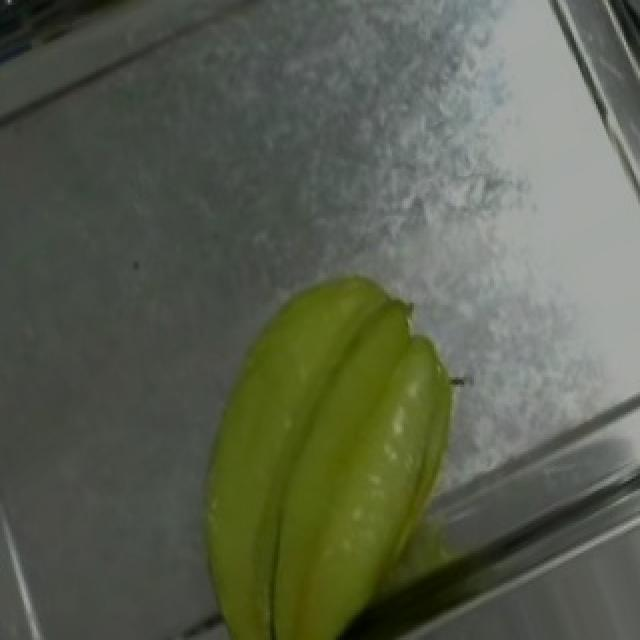fruit: (210, 235, 536, 640)
